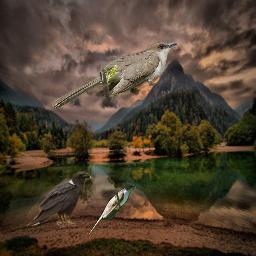Crow: (26, 171, 92, 229)
Cuckoo: (51, 41, 177, 108), (88, 184, 136, 235)
